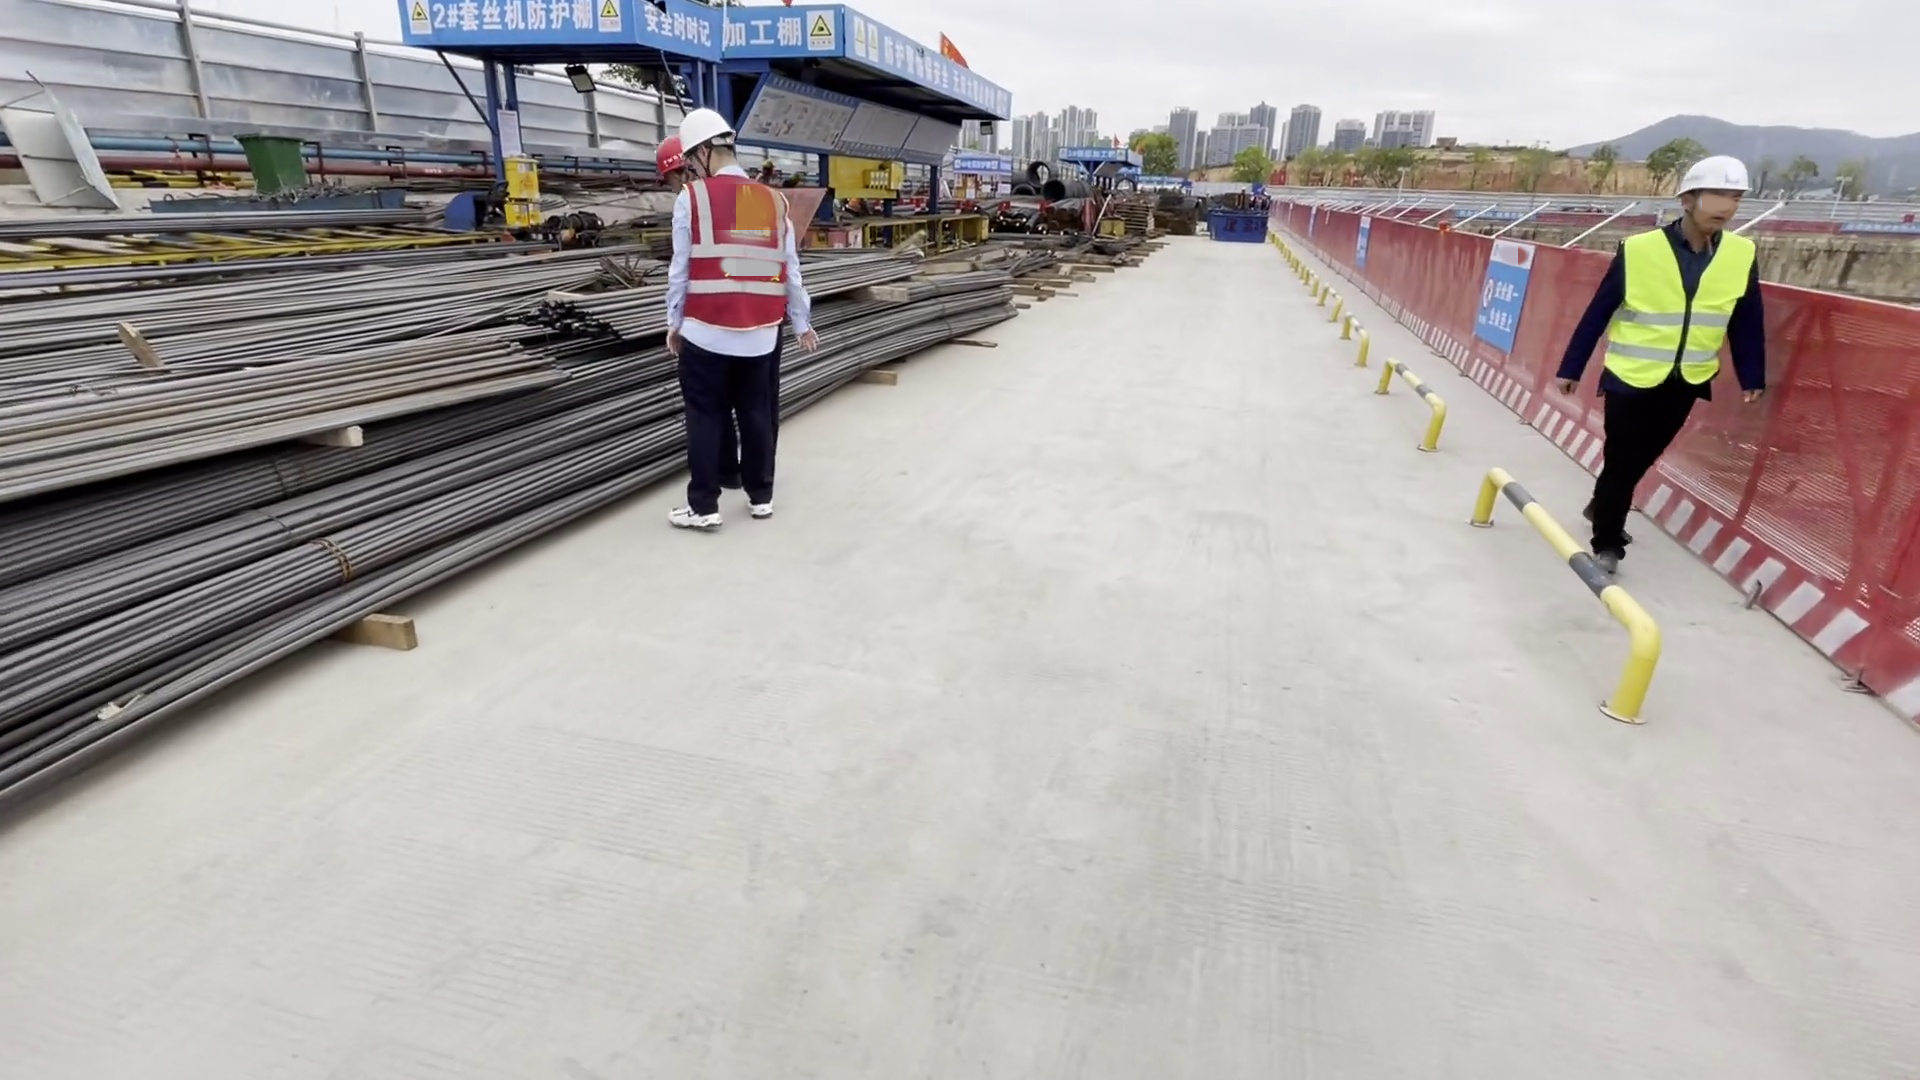ebox: (498, 148, 544, 234), (855, 159, 906, 194)
fence: (1267, 189, 1579, 449), (1733, 308, 1920, 700)
helmet: (677, 103, 751, 151), (1672, 151, 1751, 193), (650, 136, 687, 172)
hopper: (1207, 211, 1270, 244)
person: (1567, 142, 1762, 590), (670, 109, 817, 529)
rebar: (1, 223, 1030, 799)
slogan: (700, 1, 1017, 157), (1473, 242, 1527, 349)
vest: (1606, 223, 1729, 402), (663, 173, 789, 333)
